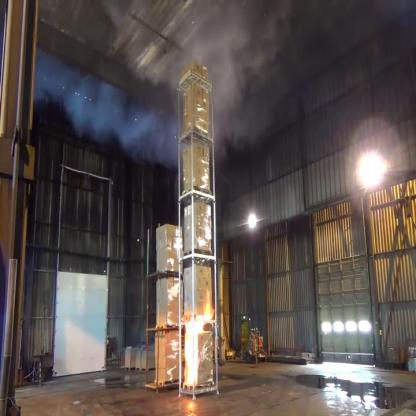fire: (182, 292, 216, 392)
